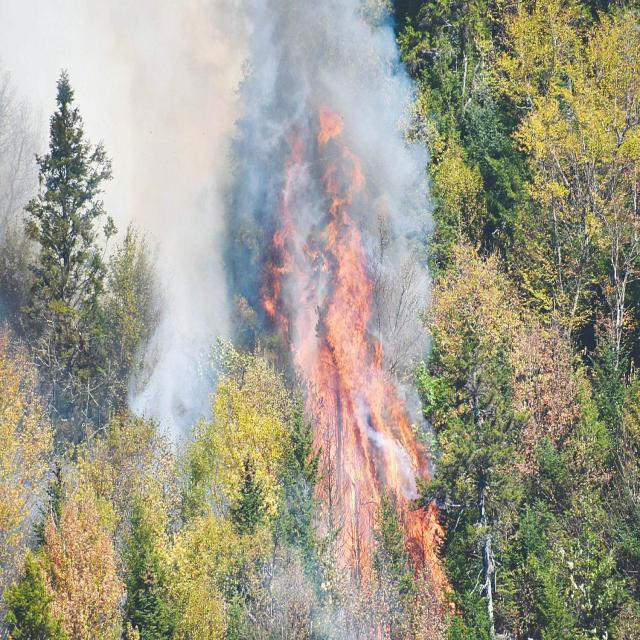Fire: (250, 116, 460, 624)
Smoke: (0, 4, 250, 408), (248, 5, 424, 106)
